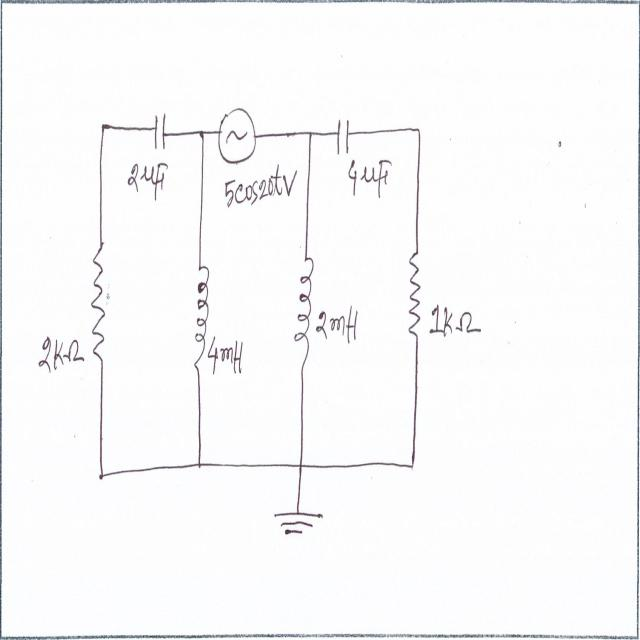ac_current: (214, 102, 259, 170)
capacitor: (151, 109, 169, 150), (336, 114, 352, 158)
ground: (270, 500, 329, 542)
inductor: (292, 251, 316, 363), (192, 264, 212, 374)
resistor: (90, 236, 107, 370), (407, 248, 422, 348)
